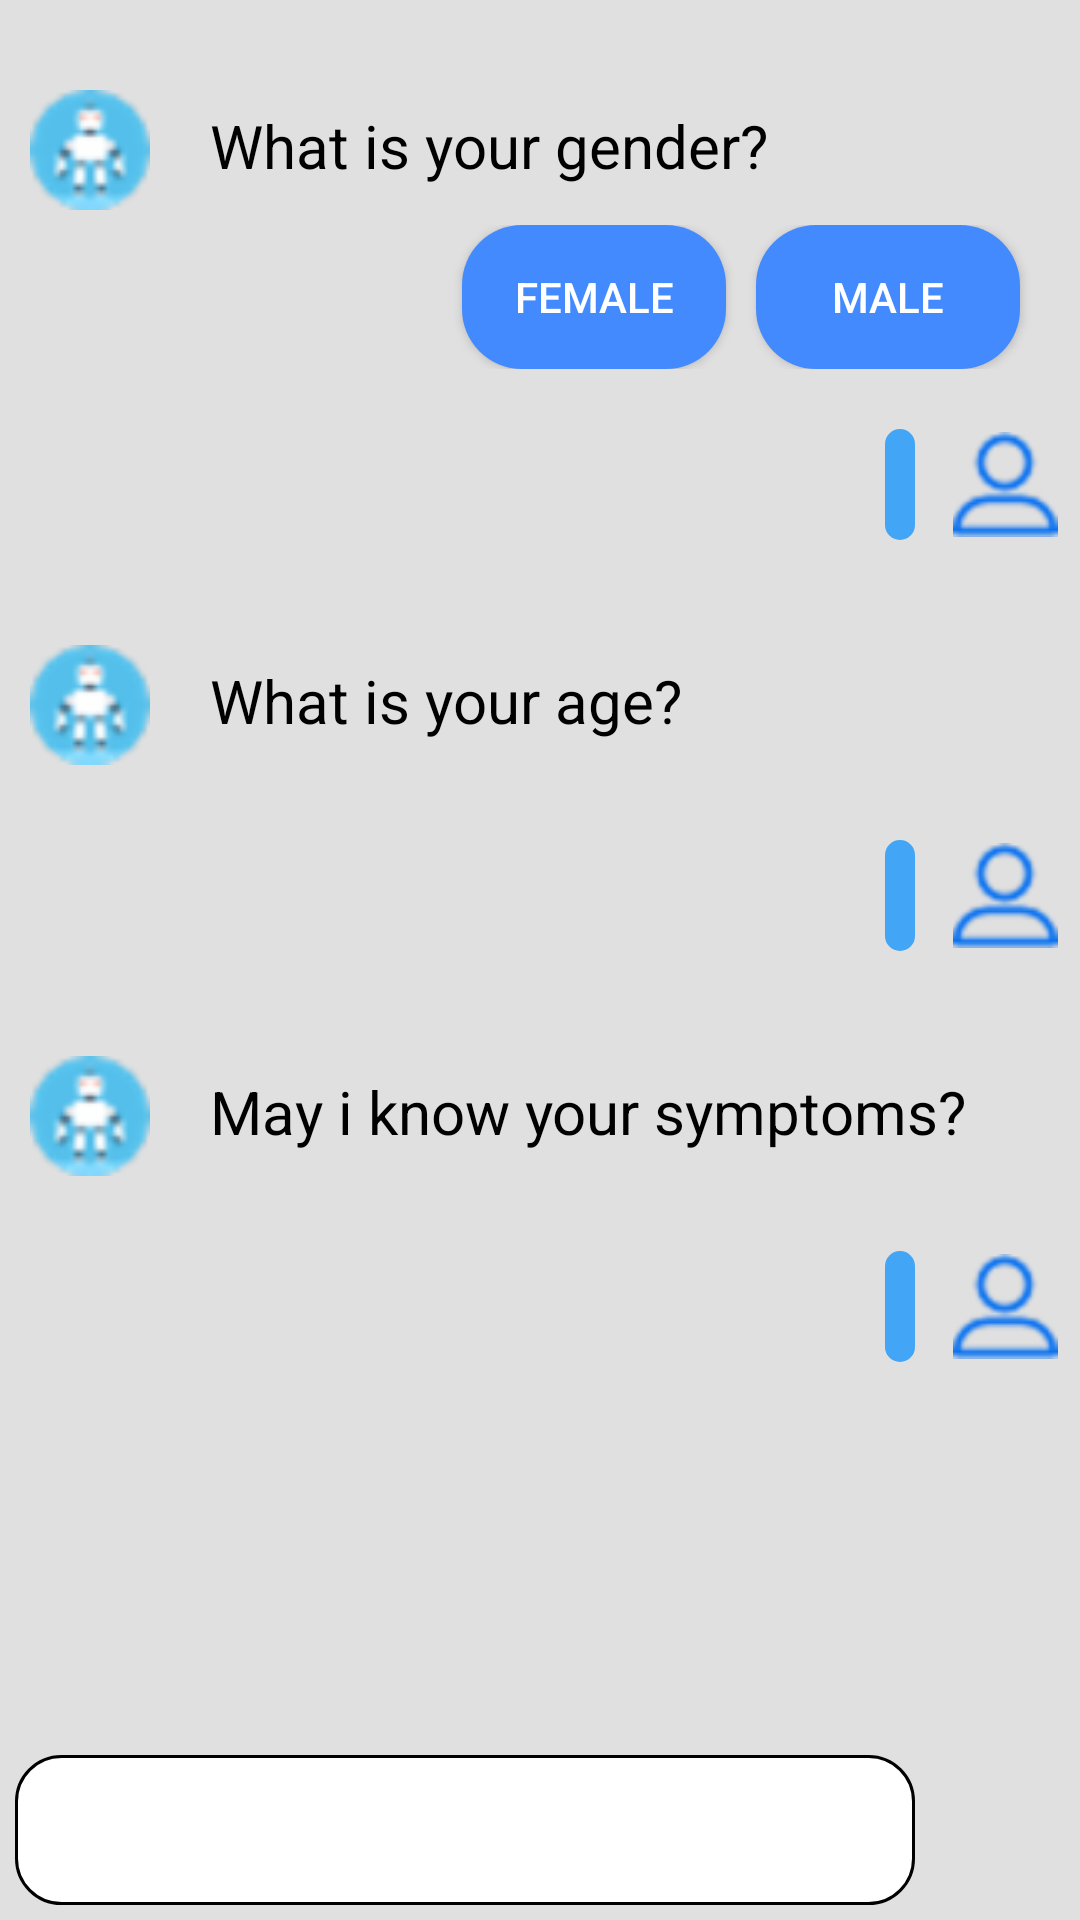

Icons on this 1080 × 1920 Android screen, each with the point to tap as (x,y):
robot: (90,150), (90,705), (90,1116)
user: (1005,484), (1005,895), (1005,1306)
